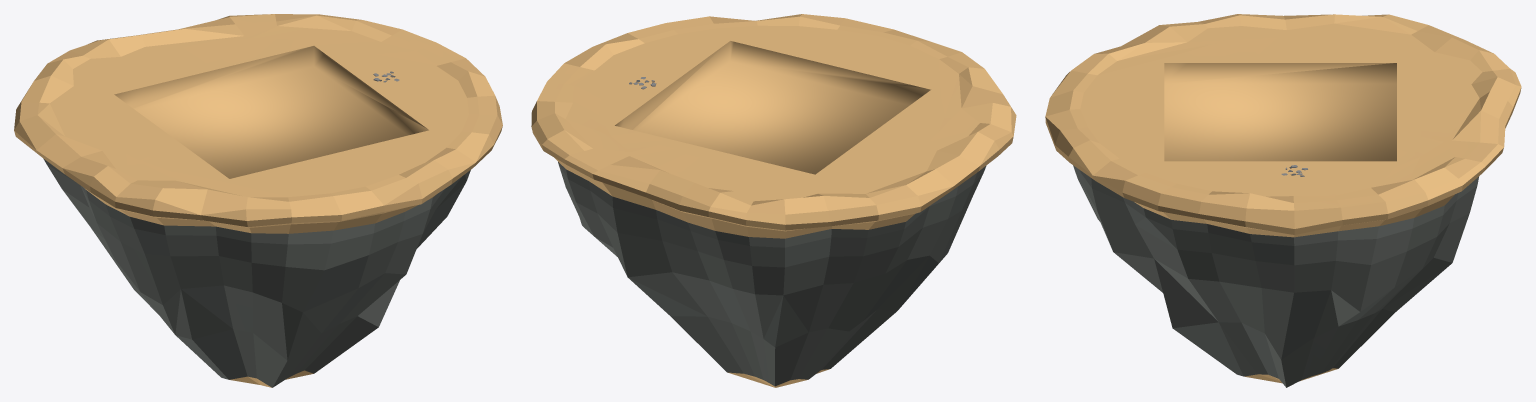
File: Island10x10.fbx
3 views of the same model, side by side, from view 1: azimuth 30°, elevation 25°; view 2: azimuth 150°, elevation 25°; view 3: azimuth 270°, elevation 25° (orthographic).
Parts seen in each view (by area): view 1: Island.001; view 2: Island.001; view 3: Island.001.
Part boxes in pixels (x1,y1,x2,y2): Island.001: (14,14,502,387); Island.001: (531,14,1016,387); Island.001: (1045,14,1521,387).
Bounding box in the file's own units: 4141 × 2695 × 4094.
